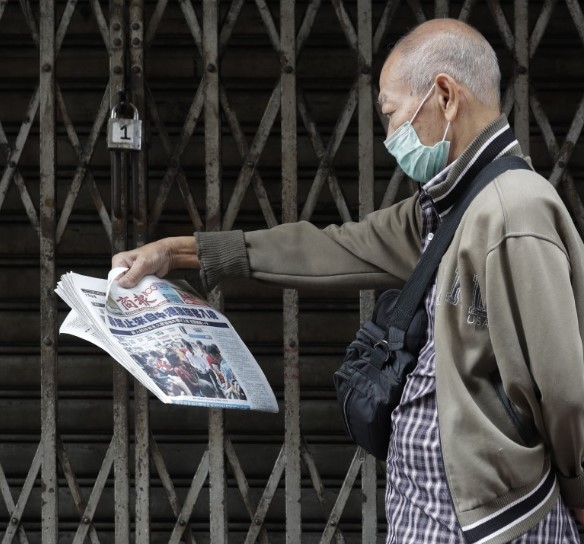face_with_mask: (372, 16, 502, 180)
